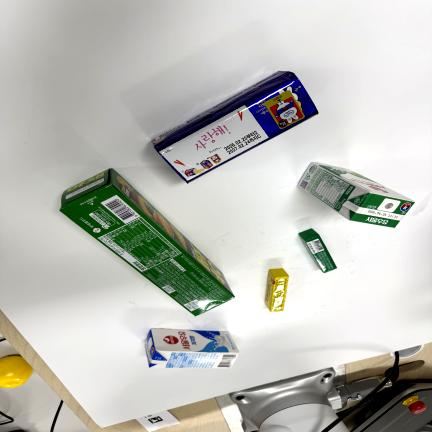cracker_ace: (152, 71, 318, 183)
cracker_vege: (61, 169, 234, 316)
gum_green: (299, 229, 337, 273)
gum_yellow: (265, 268, 289, 312)
milk_blue: (146, 328, 239, 369)
milk_green: (298, 162, 414, 227)
